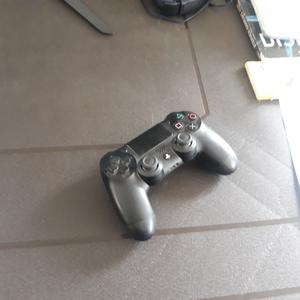controller: (99, 111, 238, 241)
